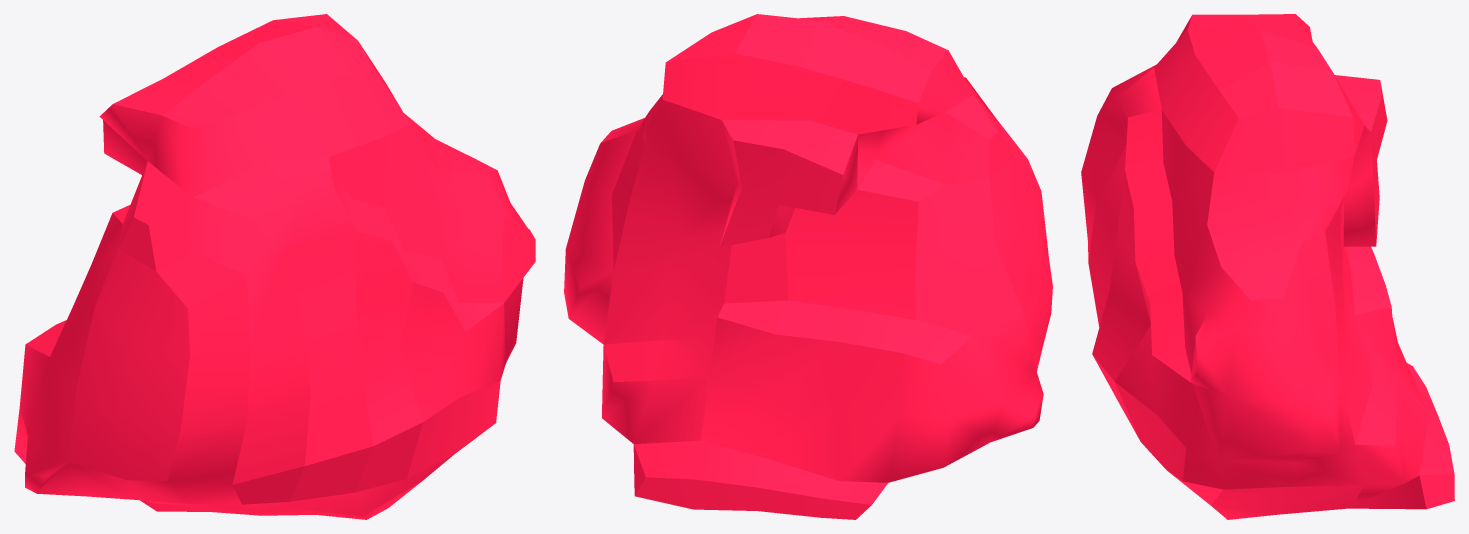
Rendered from rock_red.glb.
The picture shows the model from 3 angles, left to right: view 1: azimuth 30°, elevation 25°; view 2: azimuth 150°, elevation 25°; view 3: azimuth 270°, elevation 25°; orthographic projection. The views are drawn at different scales.
Parts seen in each view (by area): view 1: rock.017; view 2: rock.017; view 3: rock.017.
Part boxes in pixels (x1,y1,x2,y2): rock.017: [14, 14, 535, 519]; rock.017: [564, 14, 1052, 519]; rock.017: [1081, 14, 1454, 519].
Bounding box in the file's own units: 6.17 × 5.98 × 4.5.
